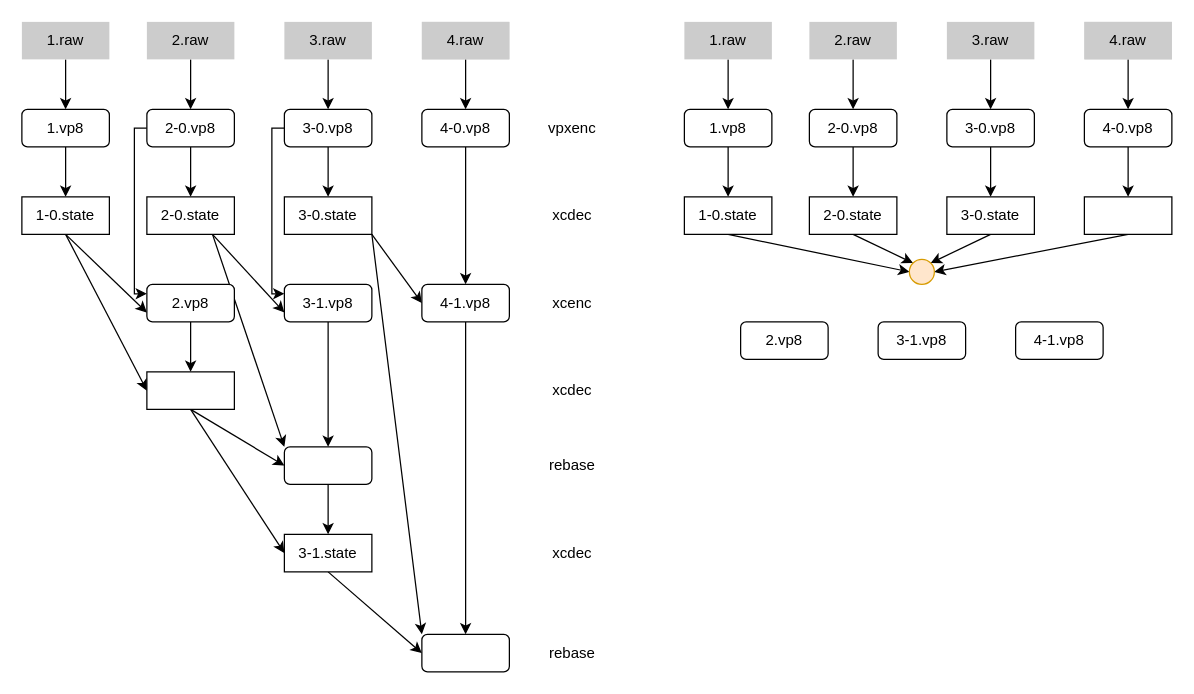
This 1194x694 diagram has some shape labels left out. The centre of each missing label's shape, as x and y in pixels:
"2-1.state" belongs at point 190,390.
"3.vp8" belongs at point 327,465.
"4-0.state" belongs at point 1127,215.
"4.vp8" belongs at point 465,652.
